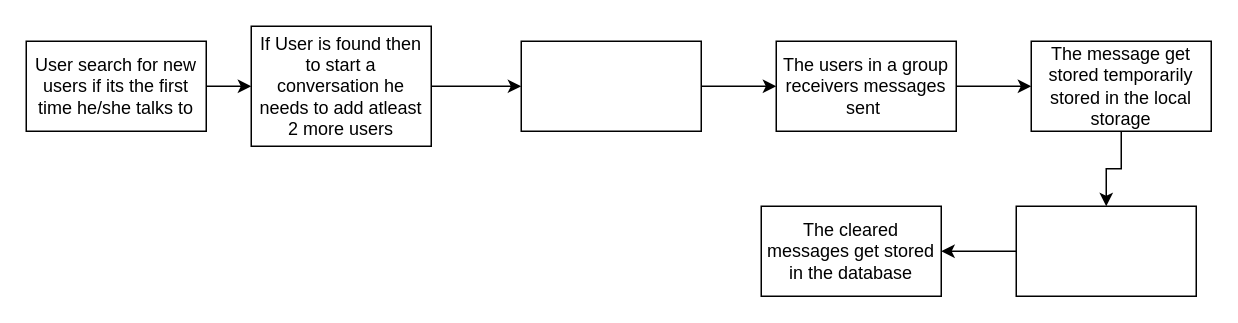
Some shapes in this 1238 by 323 pixel diagram are drawn without their labels. Each missing label, with the box of its shape:
Messages are sent via socket.io connection: (520, 40, 701, 131)
The local storage gets cleared after every 4th message sent: (1015, 205, 1196, 296)
